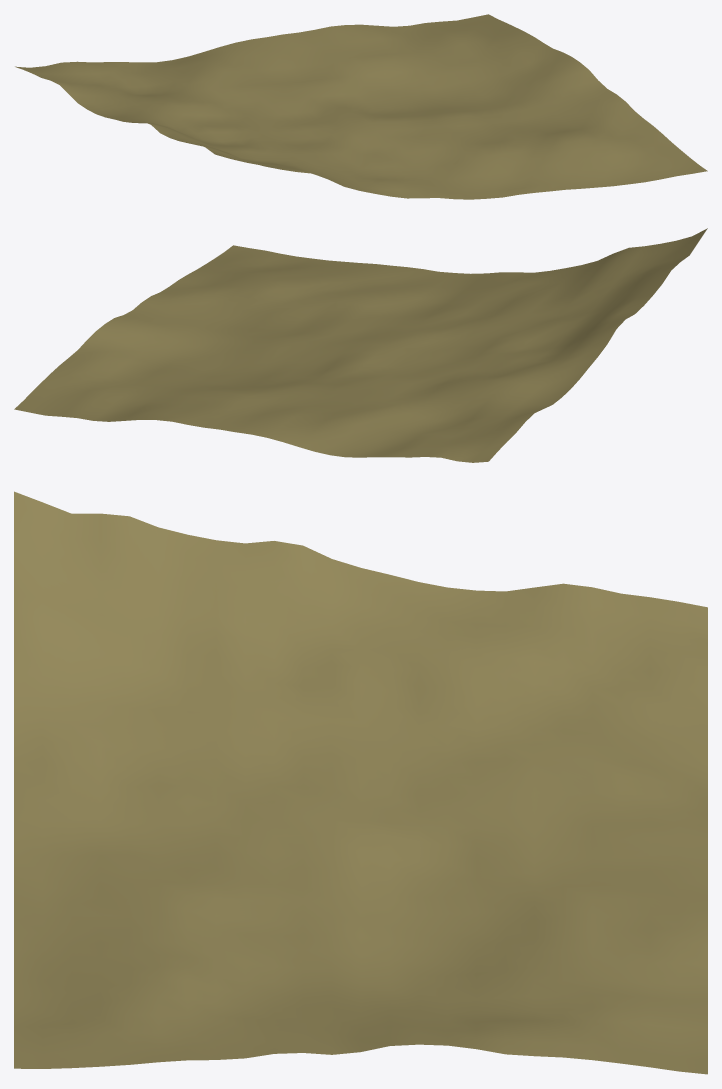
3 renders of one model, top to bottom at view 1: azimuth 30°, elevation 25°; view 2: azimuth 150°, elevation 25°; view 3: azimuth 270°, elevation 25°, orthographic. The views are drawn at different scales.
Parts seen in each view (by area): view 1: world-ground/210-72; view 2: world-ground/210-72; view 3: world-ground/210-72.
Part boxes in pixels (<box>): world-ground/210-72: <box>15,14,707,199</box>; world-ground/210-72: <box>14,228,707,462</box>; world-ground/210-72: <box>14,491,707,1074</box>.
Bounding box in the file's own units: 37.5 × 10.32 × 30.
